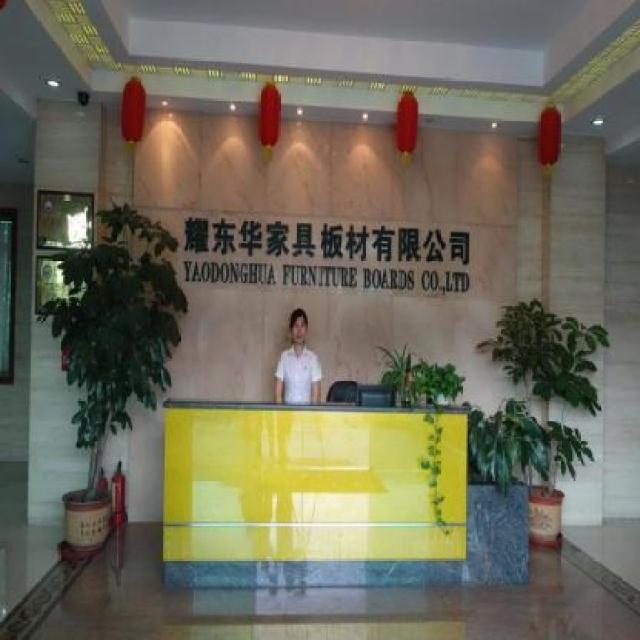frontdesk: (145, 380, 540, 606)
